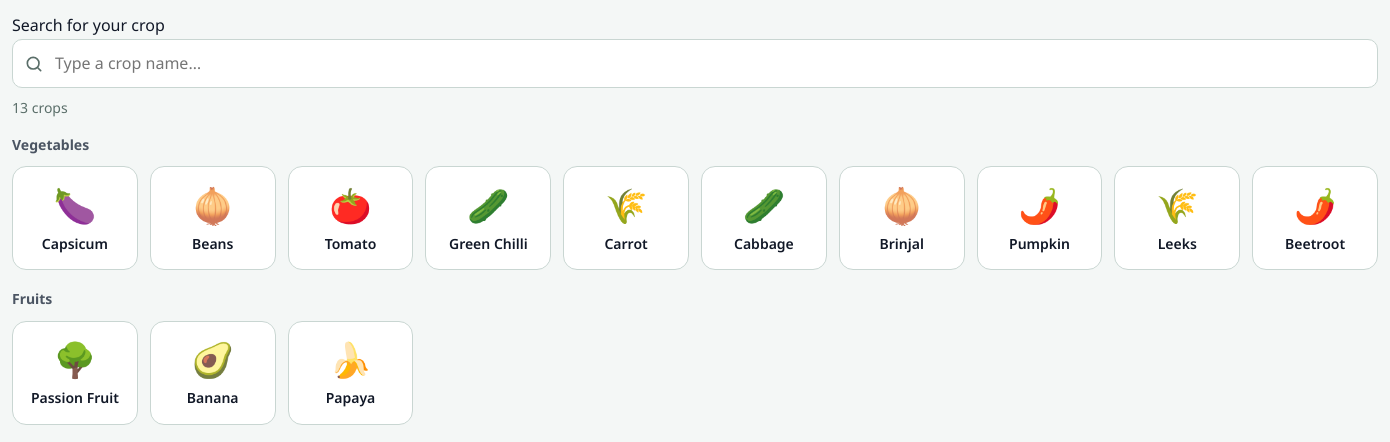
CropPicker › shows a localized empty state when nothing matches
Type "zzznope" into the search field at (695, 64), box [12,39,1378,88]
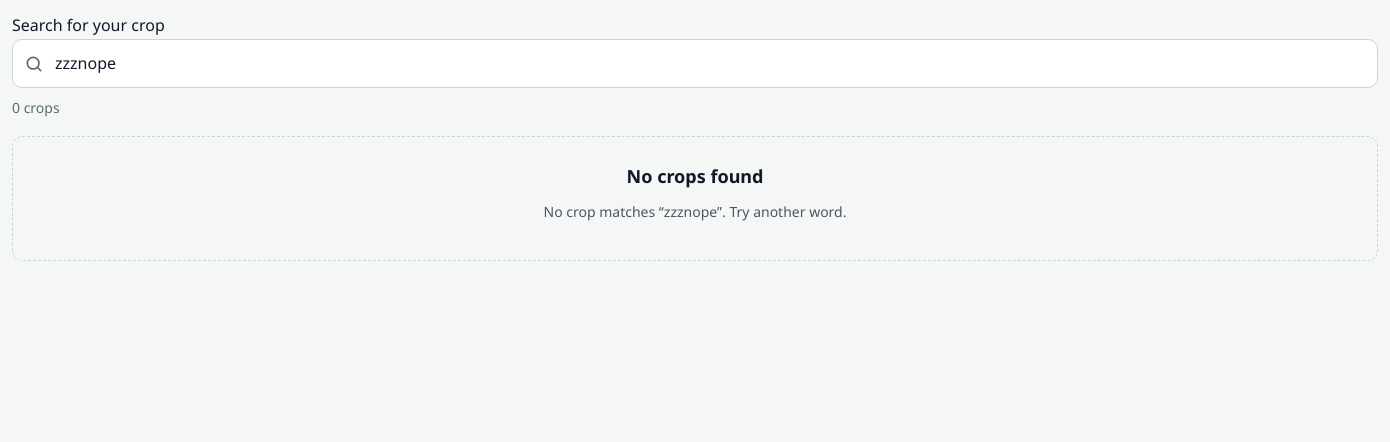
Expected: the text "No crops found" is shown, [627,164,764,188]
Expected: the text "No crop matches “zzznope”. Try another word." is shown, [544,202,846,221]
